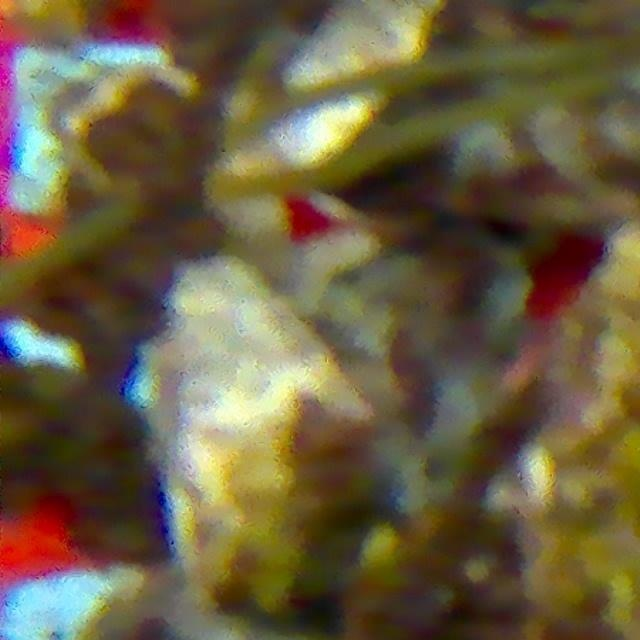SeaGrape: (125, 78, 189, 142), (82, 111, 143, 172), (0, 398, 45, 457)
